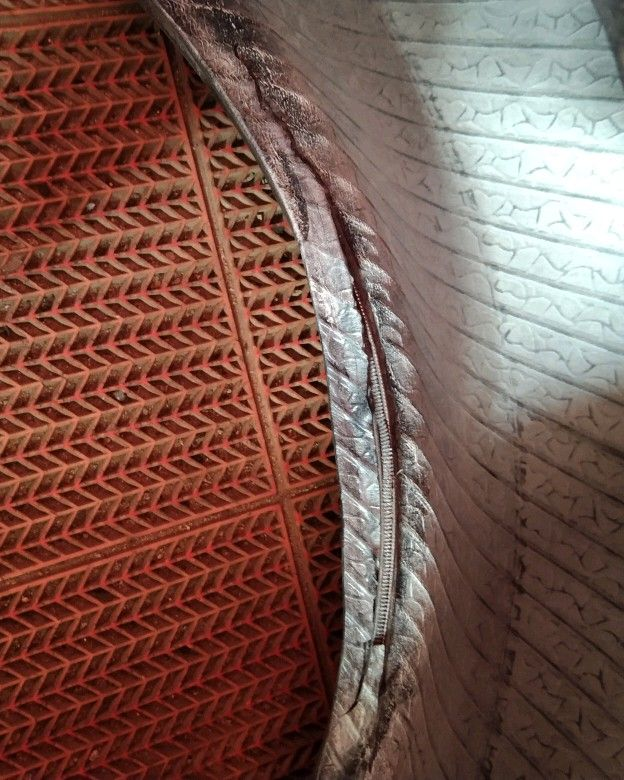bead_damage: (160, 0, 441, 779)
